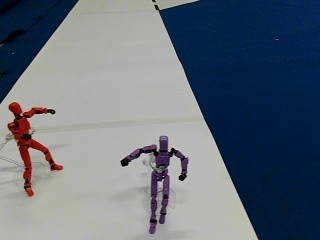pedestrian: (121, 138, 186, 233), (8, 103, 61, 196)
